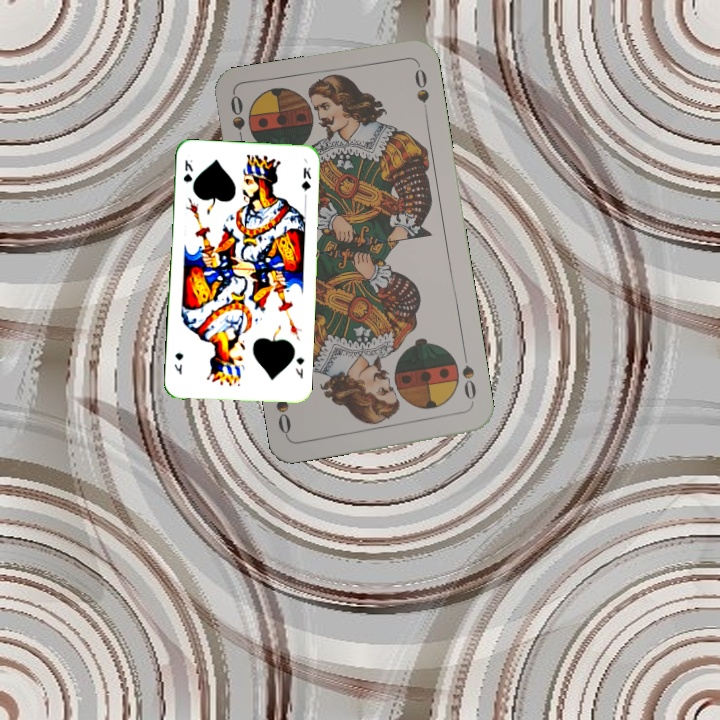GK: (179, 155, 196, 185), (292, 353, 307, 381)
SO: (226, 92, 248, 151), (458, 349, 479, 408)
